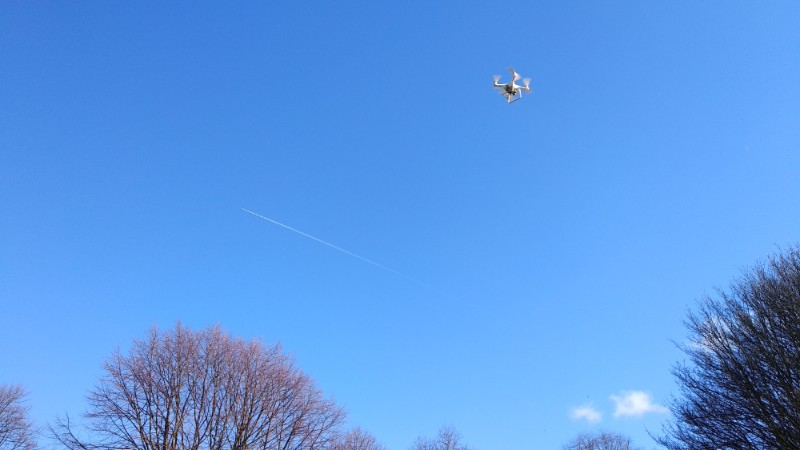drone: (488, 68, 535, 106)
